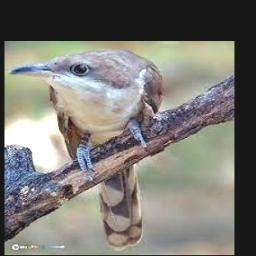Cuckoo: (8, 49, 164, 247)
